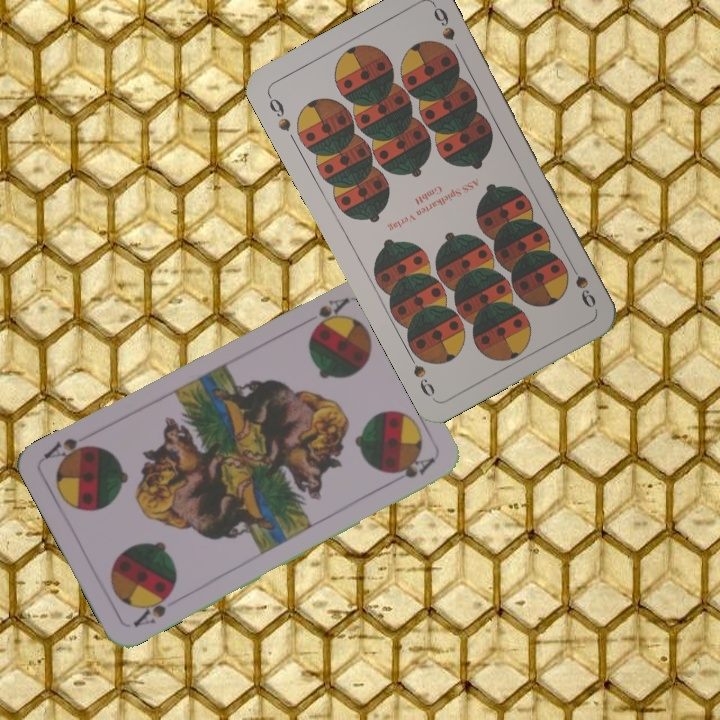S9: (564, 257, 599, 311), (263, 90, 294, 134)
SA: (129, 586, 176, 630), (308, 293, 352, 332)
